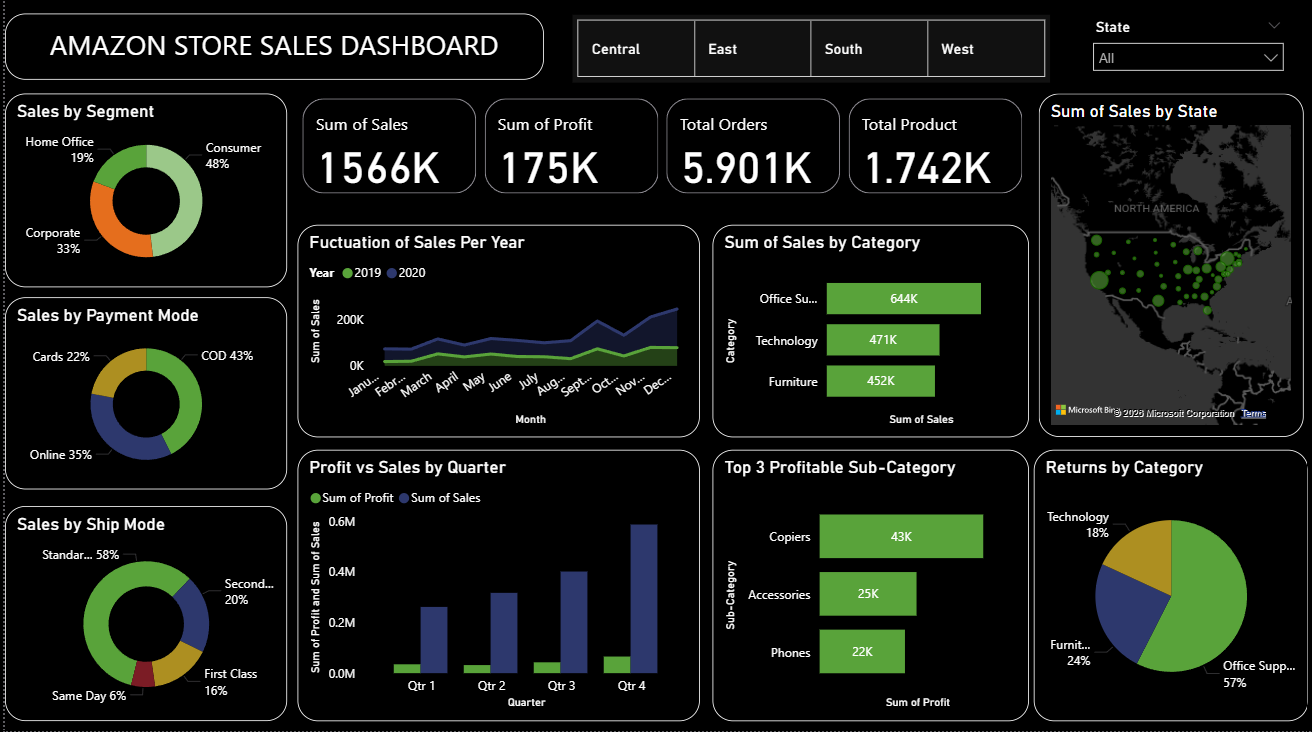

What the dashboard file says about the page in this screenshot:
{"tool":"powerbi","page":{"name":"Page 1","canvas":[1280,720],"ordinal":0},"visuals":[{"type":"shape","box":[0,3.7,1280.3,716.6],"z":0},{"type":"donutChart","title":"Sales by Segment","fields":{"Y":["Sum(Amazon Store Sales Data xlsx - Sheet1 (1).Sales)"],"Category":["Amazon Store Sales Data xlsx - Sheet1 (1).Segment"]},"box":[0,95.4,276.4,189.5],"z":1000},{"type":"donutChart","title":"Sales by Payment Mode","fields":{"Y":["Sum(Amazon Store Sales Data xlsx - Sheet1 (1).Sales)"],"Category":["Amazon Store Sales Data xlsx - Sheet1 (1).Payment Mode"]},"box":[0,294.7,276.4,188.3],"z":2000},{"type":"donutChart","title":"Sales by Ship Mode","fields":{"Category":["Amazon Store Sales Data xlsx - Sheet1 (1).Ship Mode"],"Y":["Sum(Amazon Store Sales Data xlsx - Sheet1 (1).Sales)"]},"box":[0,498.9,276.4,210.3],"z":3000},{"type":"pieChart","title":"Returns by Category","fields":{"Y":["Sum(Amazon Store Sales Data xlsx - Sheet1 (1).Returns)"],"Category":["Amazon Store Sales Data xlsx - Sheet1 (1).Category"]},"box":[1006.4,443.9,269,265.4],"z":4000},{"type":"clusteredColumnChart","title":"Profit vs Sales by Quarter","fields":{"Category":["Amazon Store Sales Data xlsx - Sheet1 (1).Order Date.Variation.Date Hierarchy.Quarter"],"Y":["Sum(Amazon Store Sales Data xlsx - Sheet1 (1).Profit)","Sum(Amazon Store Sales Data xlsx - Sheet1 (1).Sales)"]},"box":[286.1,443.9,393.8,265.4],"z":5000},{"type":"clusteredBarChart","title":"Top 3 Profitable Sub-Category","fields":{"Category":["Amazon Store Sales Data xlsx - Sheet1 (1).Sub-Category"],"Y":["Sum(Amazon Store Sales Data xlsx - Sheet1 (1).Profit)"]},"box":[692.1,443.9,309.4,265.4],"z":6000},{"type":"clusteredBarChart","fields":{"Category":["Amazon Store Sales Data xlsx - Sheet1 (1).Category"],"Y":["Sum(Amazon Store Sales Data xlsx - Sheet1 (1).Sales)"]},"box":[692.1,223.8,309.4,207.9],"z":7000},{"type":"map","fields":{"Category":["Amazon Store Sales Data xlsx - Sheet1 (1).State"],"Size":["Sum(Amazon Store Sales Data xlsx - Sheet1 (1).Sales)"]},"box":[1011.3,95.4,259.2,336.3],"z":8000},{"type":"stackedAreaChart","title":"Fuctuation of Sales Per Year","fields":{"Category":["Amazon Store Sales Data xlsx - Sheet1 (1).Order Date.Variation.Date Hierarchy.Month"],"Y":["Sum(Amazon Store Sales Data xlsx - Sheet1 (1).Sales)"],"Series":["Amazon Store Sales Data xlsx - Sheet1 (1).Order Date.Variation.Date Hierarchy.Year"]},"box":[286.1,223.8,393.8,207.9],"z":9000},{"type":"textbox","box":[0,17.1,527,64.8],"z":10000},{"type":"advancedSlicerVisual","fields":{"Values":["Amazon Store Sales Data xlsx - Sheet1 (1).Region"]},"box":[555.2,18.3,467.1,66],"z":11000},{"type":"slicer","fields":{"Values":["Amazon Store Sales Data xlsx - Sheet1 (1).State"]},"box":[1054.1,17.1,206.7,62.4],"z":12000},{"type":"cardVisual","fields":{"Data":["Sum(Amazon Store Sales Data xlsx - Sheet1 (1).Sales)","Sum(Amazon Store Sales Data xlsx - Sheet1 (1).Profit)","CountNonNull(Amazon Store Sales Data xlsx - Sheet1 (1).Order ID)","Count(Amazon Store Sales Data xlsx - Sheet1 (1).Product Name)"]},"box":[286.1,95.4,715.4,103.9],"z":13000}]}

Visuals, with their boxes in screenshot pixels (x1, y1, x2, y2), scaled from the page's 1280x720 canvas onto the 1312x732 screenshot:
shape: bbox=[0, 4, 1311, 731]
"Sales by Segment" donutChart: bbox=[0, 97, 283, 290]
"Sales by Payment Mode" donutChart: bbox=[0, 300, 283, 491]
"Sales by Ship Mode" donutChart: bbox=[0, 507, 283, 721]
"Returns by Category" pieChart: bbox=[1032, 451, 1307, 721]
"Profit vs Sales by Quarter" clusteredColumnChart: bbox=[293, 451, 697, 721]
"Top 3 Profitable Sub-Category" clusteredBarChart: bbox=[709, 451, 1027, 721]
clusteredBarChart - Amazon Store Sales Data xlsx - Sheet1 (1).Category x Sum(Amazon Store Sales Data xlsx - Sheet1 (1).Sales): bbox=[709, 228, 1027, 439]
map - Amazon Store Sales Data xlsx - Sheet1 (1).State x Sum(Amazon Store Sales Data xlsx - Sheet1 (1).Sales): bbox=[1037, 97, 1302, 439]
"Fuctuation of Sales Per Year" stackedAreaChart: bbox=[293, 228, 697, 439]
textbox: bbox=[0, 17, 540, 83]
advancedSlicerVisual - Amazon Store Sales Data xlsx - Sheet1 (1).Region: bbox=[569, 19, 1048, 86]
slicer - Amazon Store Sales Data xlsx - Sheet1 (1).State: bbox=[1080, 17, 1292, 81]
cardVisual - Sum(Amazon Store Sales Data xlsx - Sheet1 (1).Sales) x Sum(Amazon Store Sales Data xlsx - Sheet1 (1).Profit): bbox=[293, 97, 1027, 203]
